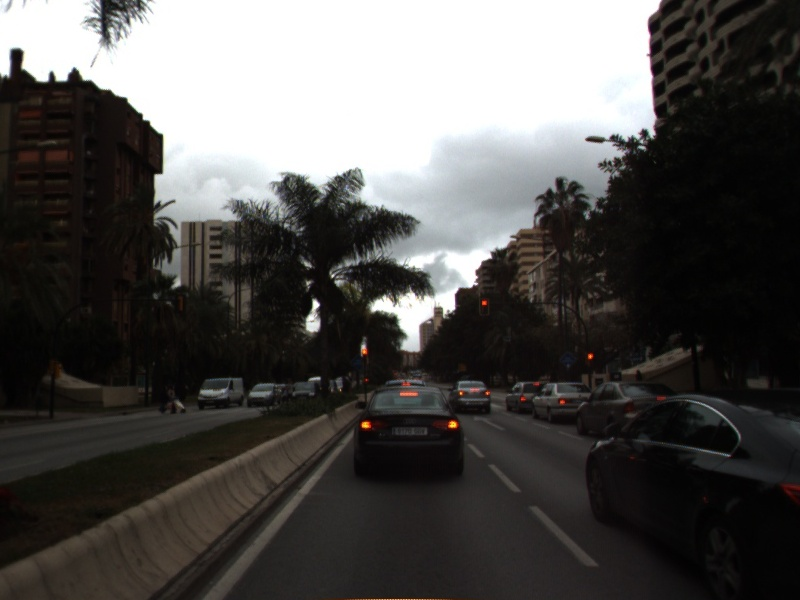STRAIGHT: (472, 413, 508, 432)
